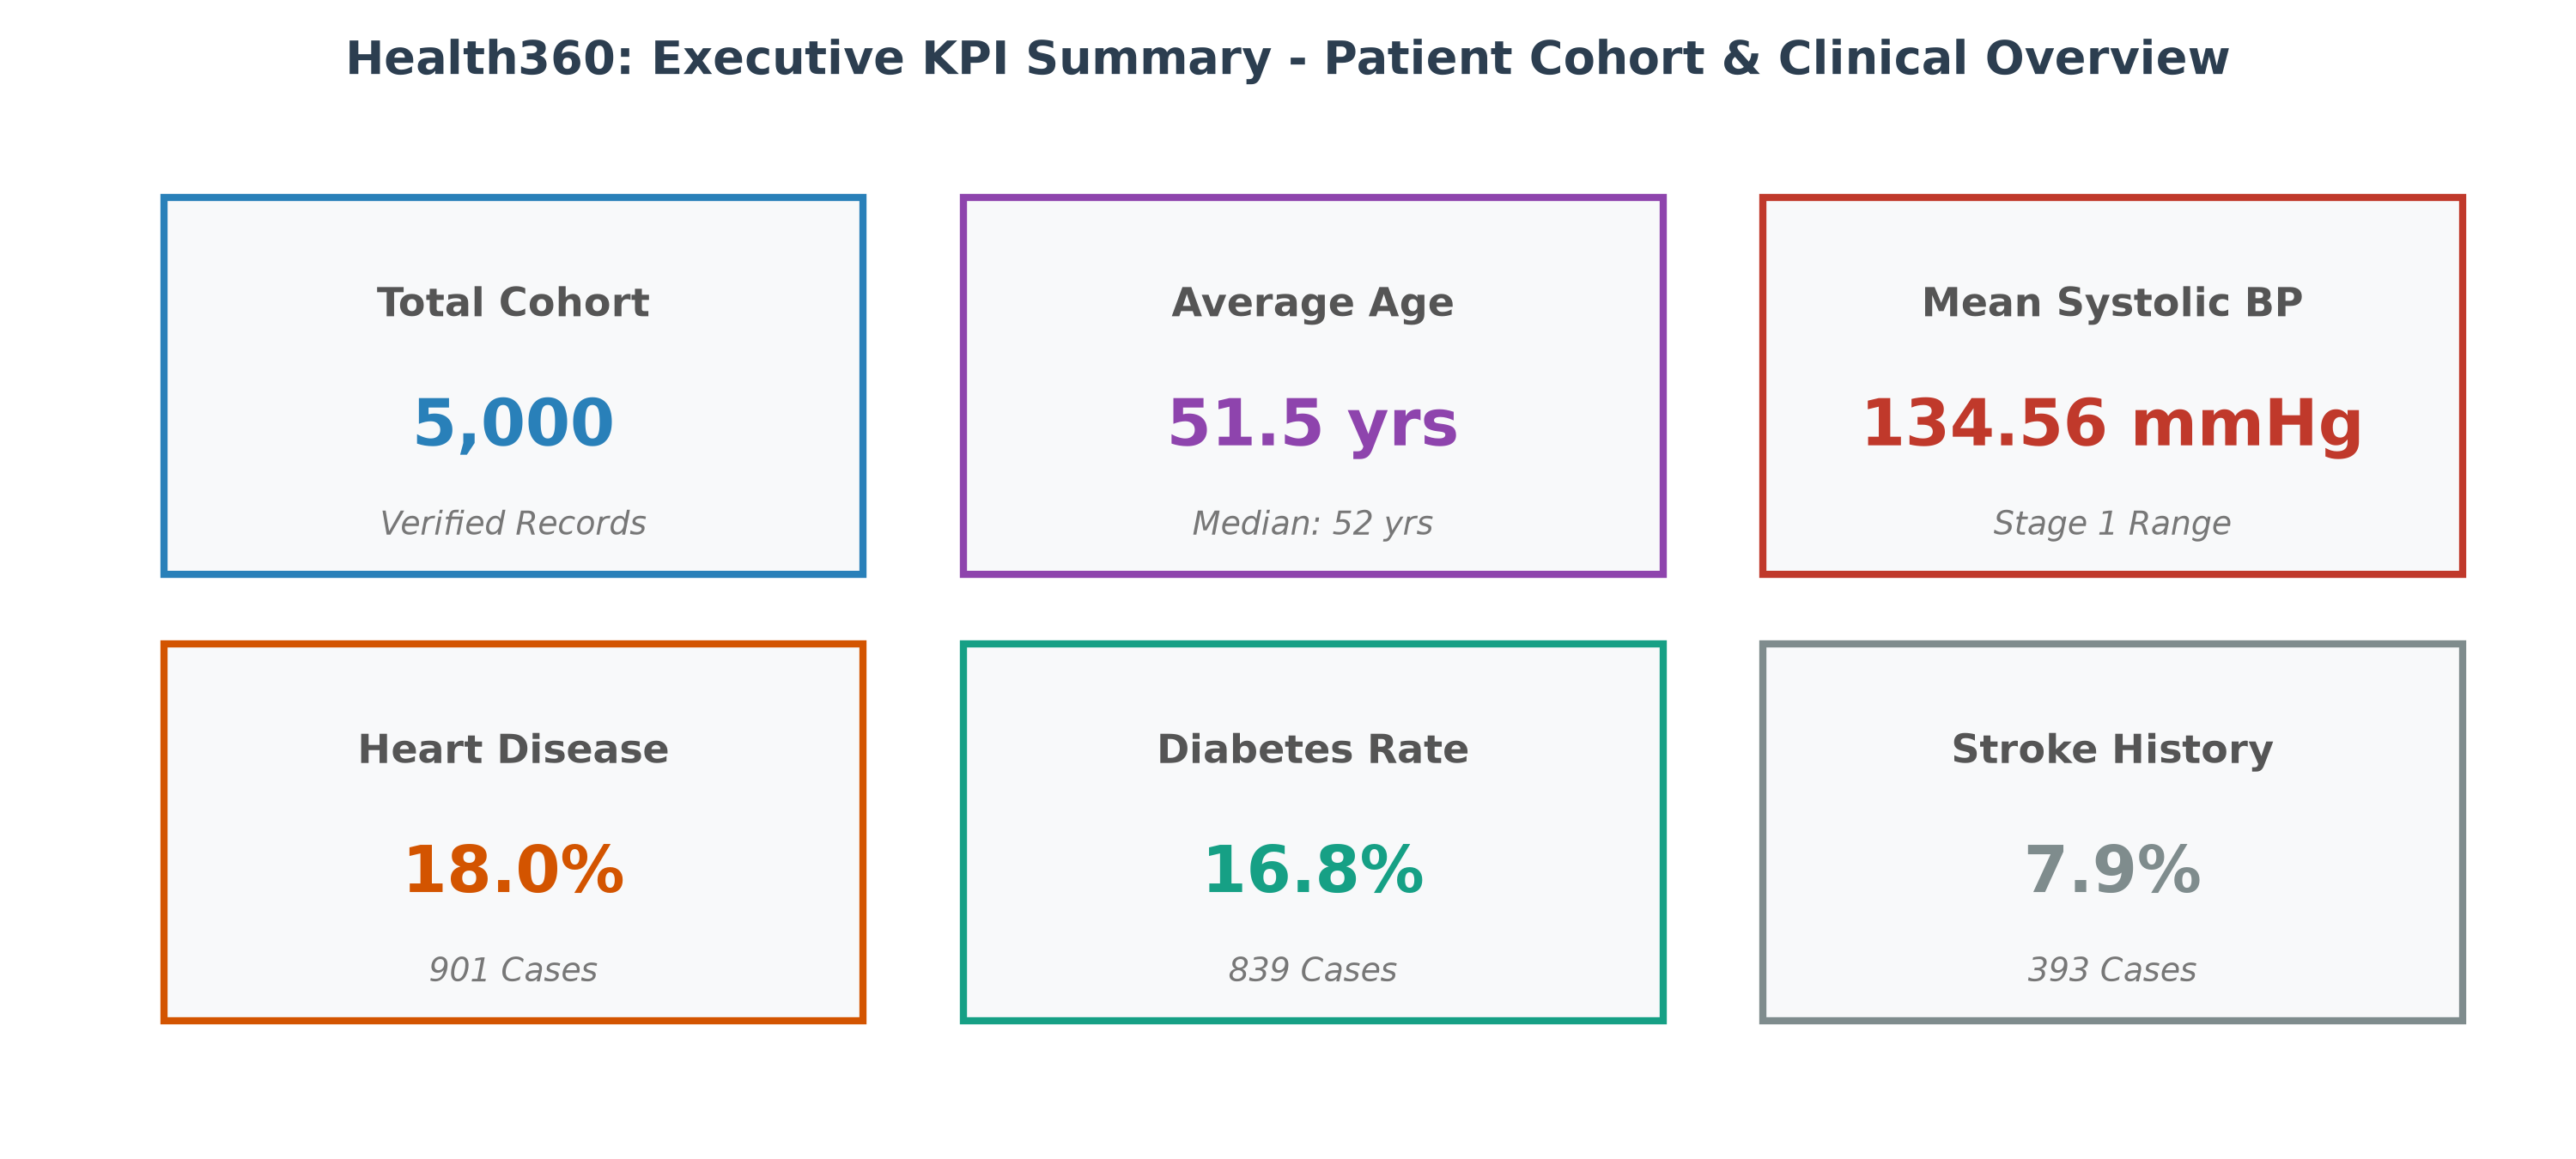

Layout of this report page (visuals, bound fields, positions):
{"tool":"tableau","page":{"name":"Smart Healthcare & Risk Factor Analysis Dashboard","canvas":[1000,1000],"units":"permille","ordinal":0},"visuals":[{"type":"worksheet","title":"KPI_Summary","box":[10,10,980,980]}]}

Visuals, with their boxes on the dashboard's canvas, which has no fixed pixel size, in thousandths of its width and height (x1, y1, x2, y2). These are canvas units, not pixel positions in the 2576x1159 screenshot, which may show the page scaled, cropped or inside an application window:
"KPI_Summary" worksheet: Rect(10, 10, 990, 990)
